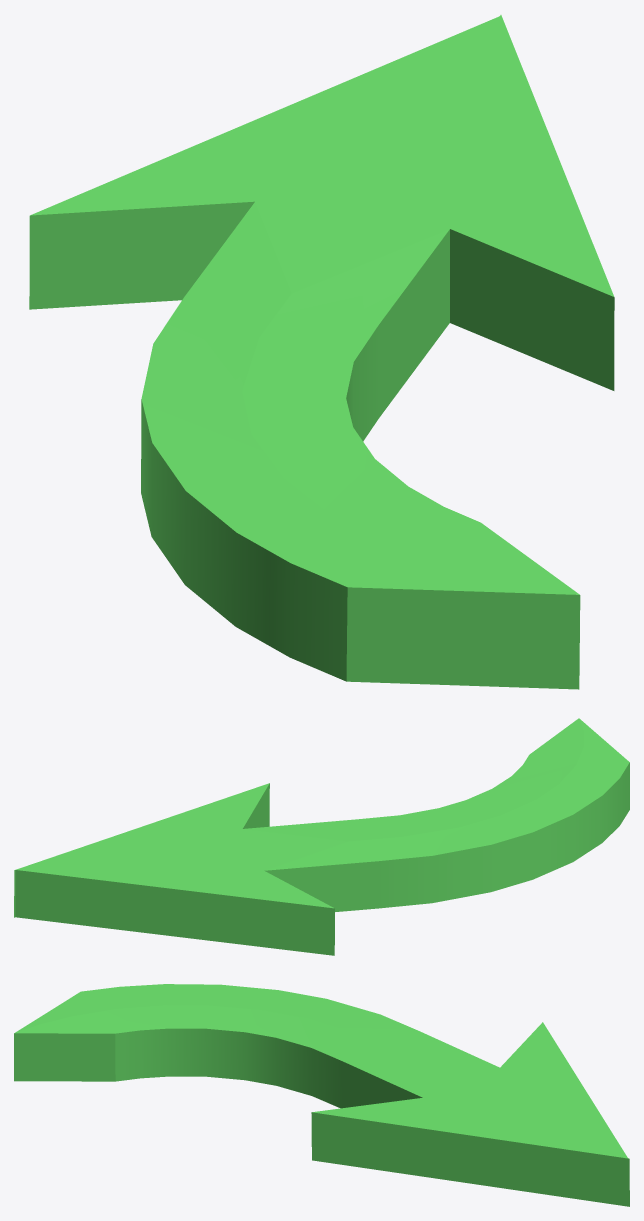
The model's file is Y-Axis-Rotation.fbx.
3 views of the same model, one above another, from view 1: azimuth 30°, elevation 25°; view 2: azimuth 150°, elevation 25°; view 3: azimuth 270°, elevation 25° (orthographic). The views are drawn at different scales.
Parts seen in each view (by area): view 1: polySurface18; view 2: polySurface18; view 3: polySurface18.
Boxes of the visible parts, box(x1,y1,x2,y2) form: polySurface18: box(29, 15, 614, 689); polySurface18: box(14, 718, 629, 955); polySurface18: box(14, 984, 629, 1206).
Size of the model in its own units: 2.47 by 0.3433 by 3.59.
